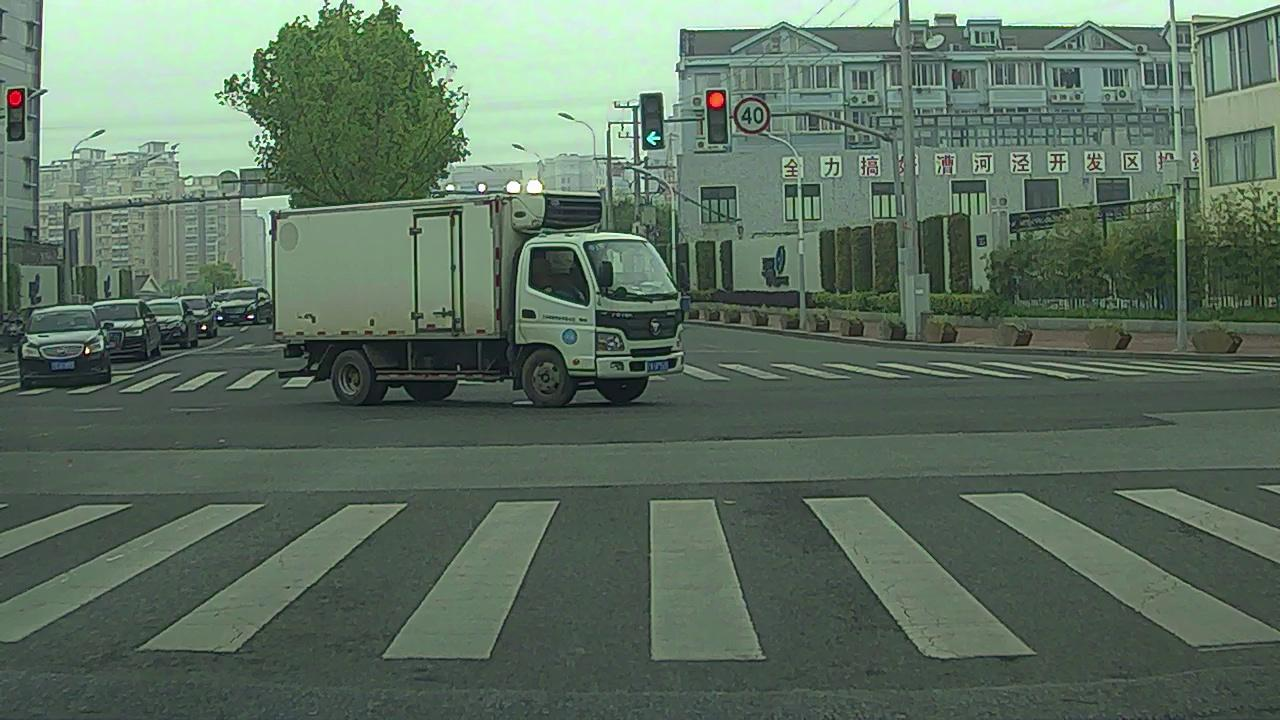traffic_light: (641, 93, 664, 151), (706, 90, 727, 144), (7, 89, 25, 141)
